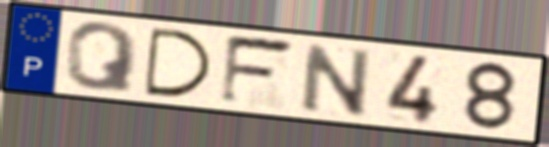4: (381, 51, 442, 126)
8: (460, 58, 524, 133)
D: (142, 25, 217, 100)
F: (216, 32, 300, 108)
N: (300, 40, 374, 118)
Q: (63, 20, 142, 95)
